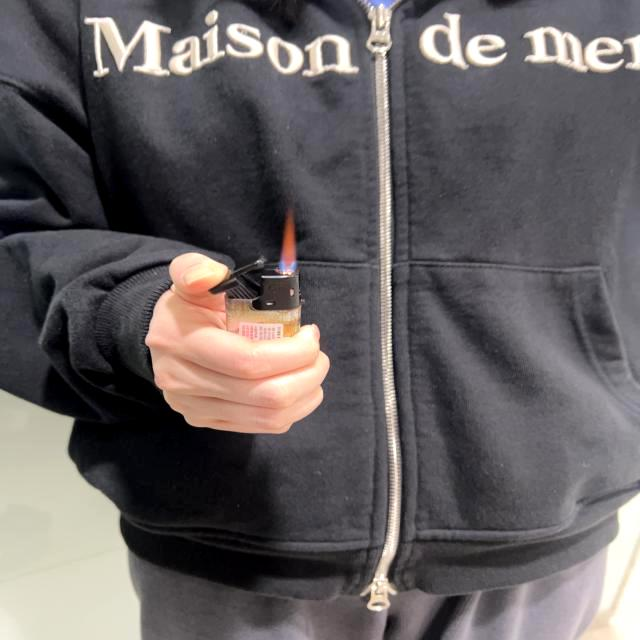fire: (280, 210, 298, 274)
